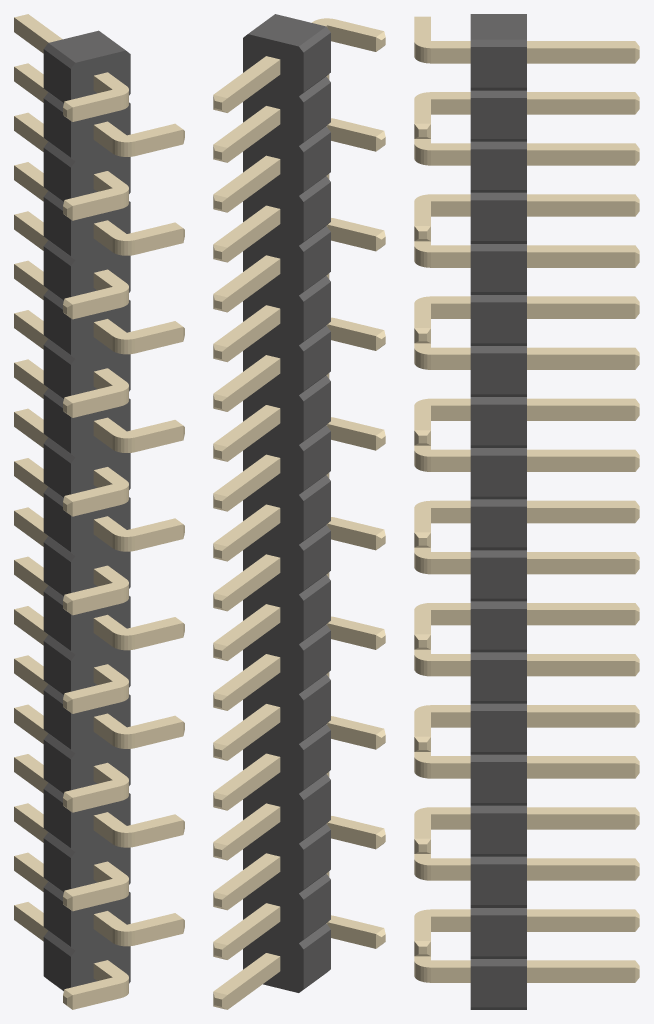
Rendered from PinHeader_1x19_P1.00mm_Vertical_SMD_Pin1Right.glb.
3 views of the same model, side by side, from view 1: azimuth 30°, elevation 25°; view 2: azimuth 150°, elevation 25°; view 3: azimuth 270°, elevation 25° (orthographic). The views are drawn at different scales.
Visible parts, largest first — view 1: Shape_IndexedFaceSet.003, Shape_IndexedFaceSet.001, Shape_IndexedFaceSet.085, Shape_IndexedFaceSet.013, Shape_IndexedFaceSet.025, Shape_IndexedFaceSet.037, Shape_IndexedFaceSet.049, Shape_IndexedFaceSet.097, Shape_IndexedFaceSet.073, Shape_IndexedFaceSet.109, Shape_IndexedFaceSet.061, Shape_IndexedFaceSet.067 (+67 smaller); view 2: Shape_IndexedFaceSet.004, Shape_IndexedFaceSet.001, Shape_IndexedFaceSet.013, Shape_IndexedFaceSet.019, Shape_IndexedFaceSet.049, Shape_IndexedFaceSet.055, Shape_IndexedFaceSet.091, Shape_IndexedFaceSet.007, Shape_IndexedFaceSet.025, Shape_IndexedFaceSet.031, Shape_IndexedFaceSet.043, Shape_IndexedFaceSet.067 (+67 smaller); view 3: Shape_IndexedFaceSet.034, Shape_IndexedFaceSet.040, Shape_IndexedFaceSet.052, Shape_IndexedFaceSet.064, Shape_IndexedFaceSet.106, Shape_IndexedFaceSet.112, Shape_IndexedFaceSet.046, Shape_IndexedFaceSet.058, Shape_IndexedFaceSet.002, Shape_IndexedFaceSet.010, Shape_IndexedFaceSet.016, Shape_IndexedFaceSet.022 (+75 smaller).
Part boxes in pixels (x1,y1,x2,y2): Shape_IndexedFaceSet.003: [71, 50, 130, 987]; Shape_IndexedFaceSet.001: [49, 30, 125, 62]; Shape_IndexedFaceSet.085: [43, 690, 70, 749]; Shape_IndexedFaceSet.013: [43, 98, 70, 157]; Shape_IndexedFaceSet.025: [43, 197, 70, 255]; Shape_IndexedFaceSet.037: [43, 296, 70, 354]; Shape_IndexedFaceSet.049: [43, 394, 70, 453]; Shape_IndexedFaceSet.097: [43, 789, 70, 847]; Shape_IndexedFaceSet.073: [43, 592, 70, 650]; Shape_IndexedFaceSet.109: [43, 888, 70, 946]; Shape_IndexedFaceSet.061: [43, 493, 70, 551]; Shape_IndexedFaceSet.067: [43, 542, 70, 596]; Shape_IndexedFaceSet.004: [243, 34, 303, 992]; Shape_IndexedFaceSet.001: [248, 14, 325, 46]; Shape_IndexedFaceSet.013: [303, 82, 330, 141]; Shape_IndexedFaceSet.019: [303, 132, 330, 191]; Shape_IndexedFaceSet.049: [303, 381, 330, 440]; Shape_IndexedFaceSet.055: [303, 431, 330, 490]; Shape_IndexedFaceSet.091: [303, 730, 330, 789]; Shape_IndexedFaceSet.007: [303, 33, 330, 91]; Shape_IndexedFaceSet.025: [303, 182, 330, 241]; Shape_IndexedFaceSet.031: [303, 232, 330, 291]; Shape_IndexedFaceSet.043: [303, 332, 330, 390]; Shape_IndexedFaceSet.067: [303, 531, 330, 590]; Shape_IndexedFaceSet.034: [470, 302, 526, 343]; Shape_IndexedFaceSet.040: [470, 353, 526, 394]; Shape_IndexedFaceSet.052: [470, 455, 526, 496]; Shape_IndexedFaceSet.064: [470, 557, 526, 598]; Shape_IndexedFaceSet.106: [470, 915, 526, 956]; Shape_IndexedFaceSet.112: [470, 966, 526, 1007]; Shape_IndexedFaceSet.046: [470, 404, 526, 445]; Shape_IndexedFaceSet.058: [470, 506, 526, 547]; Shape_IndexedFaceSet.002: [470, 47, 526, 87]; Shape_IndexedFaceSet.010: [470, 98, 526, 138]; Shape_IndexedFaceSet.016: [470, 149, 526, 189]; Shape_IndexedFaceSet.022: [470, 200, 526, 240].
Bounding box in the file's own units: 0.984 × 7.48 × 1.58.
